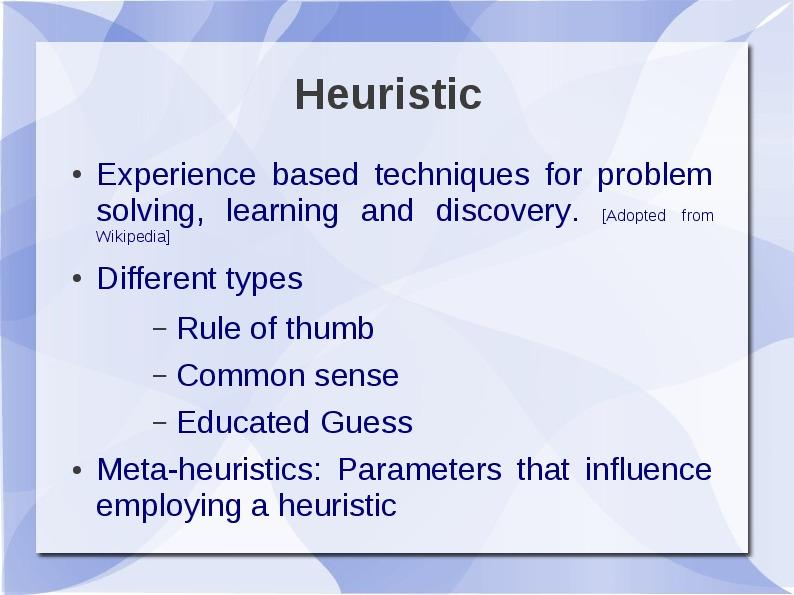paragraph: (49, 137, 736, 540)
title: (278, 64, 498, 121)
